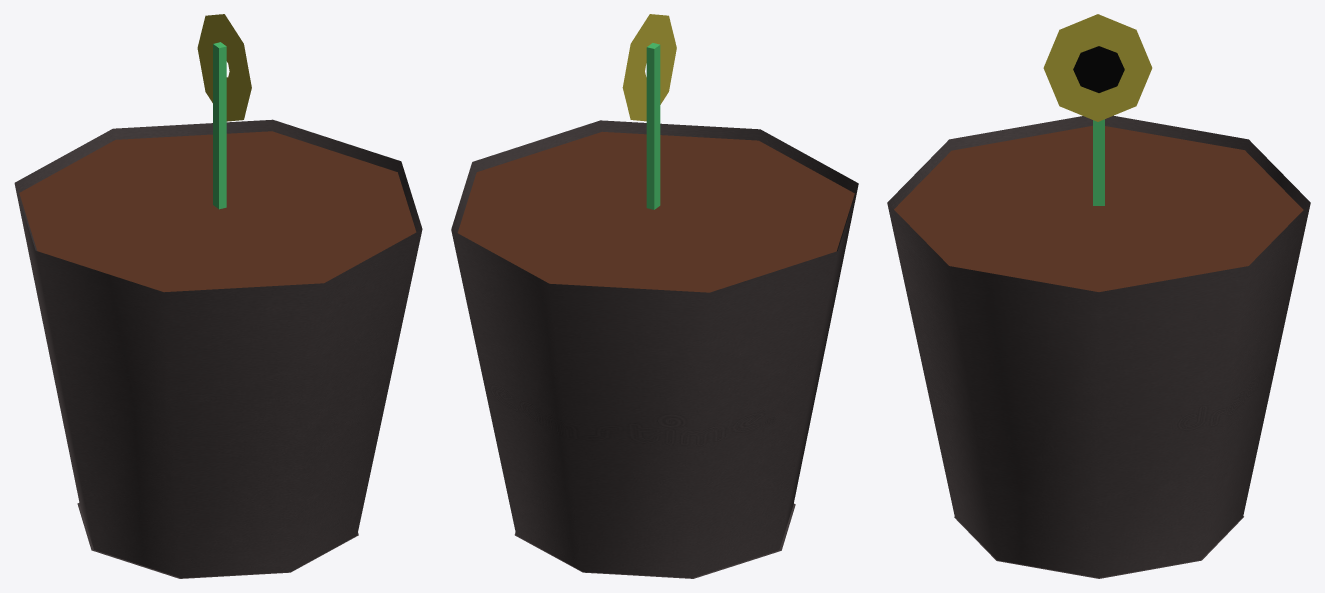
Rendered from RoundPot.gltf.
The picture shows the model from 3 angles, left to right: view 1: azimuth 30°, elevation 25°; view 2: azimuth 150°, elevation 25°; view 3: azimuth 270°, elevation 25°; orthographic projection.
Parts seen in each view (by area): view 1: Cylinder, Circle (×2), Ring, Box; view 2: Cylinder, Circle (×2), Ring, Box; view 3: Cylinder, Circle, Ring (×2), Box.
Part boxes in pixels (left/top/right/bottom): Cylinder: left=14, top=119, right=422, bottom=578; Circle (×2): left=19, top=131, right=416, bottom=578; Ring: left=197, top=14, right=251, bottom=121; Box: left=213, top=42, right=226, bottom=209; Cylinder: left=451, top=120, right=858, bottom=578; Circle (×2): left=457, top=131, right=854, bottom=578; Ring: left=622, top=14, right=676, bottom=121; Box: left=646, top=43, right=660, bottom=209; Cylinder: left=887, top=115, right=1310, bottom=577; Circle: left=894, top=125, right=1303, bottom=291; Ring (×2): left=1043, top=14, right=1152, bottom=121; Box: left=1093, top=119, right=1104, bottom=205.
Size of the model in its own units: 2 by 2.64 by 2.
Materials: 5 (1 with a texture image).
